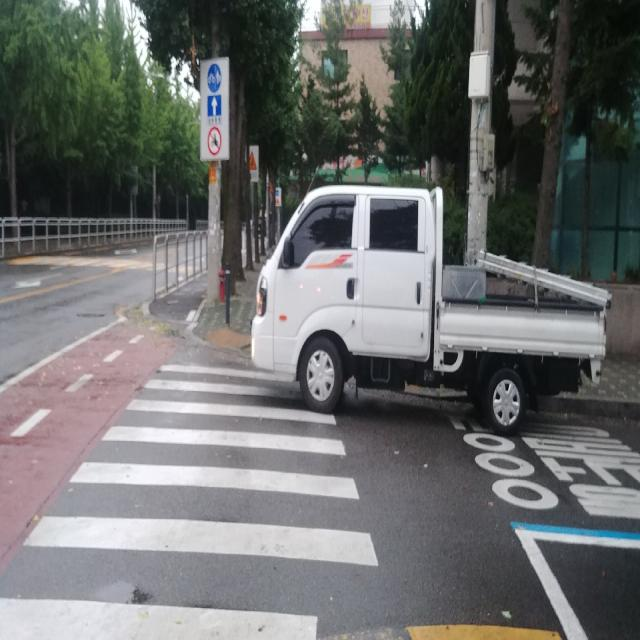횡단보도: (0, 363, 379, 639)
